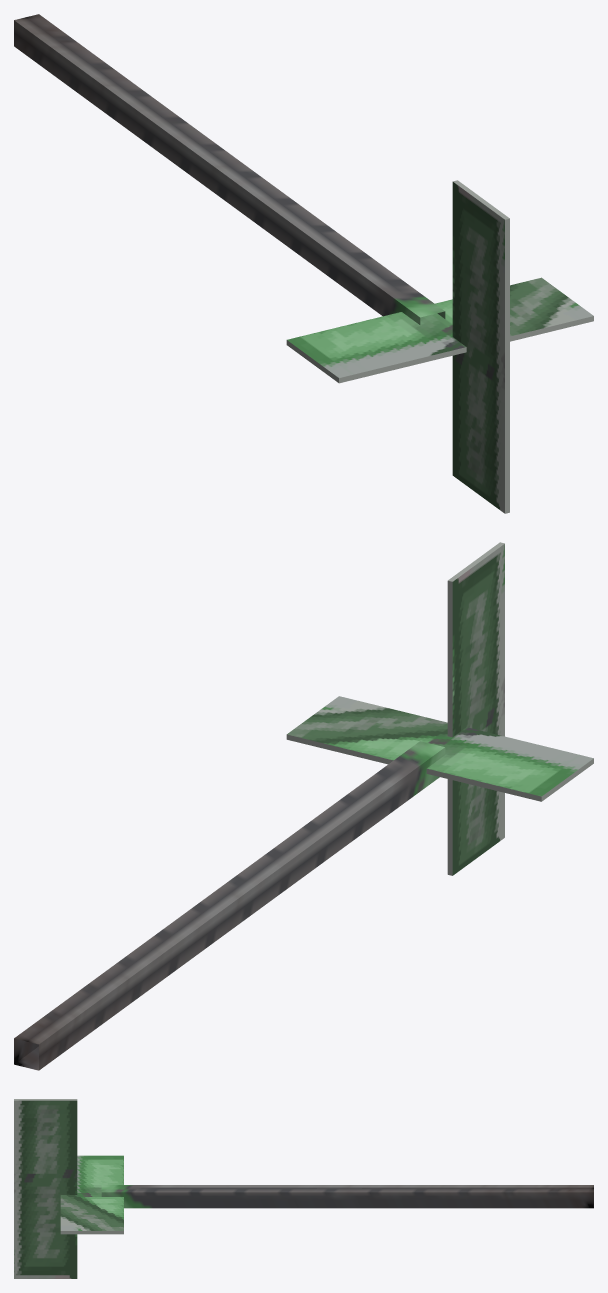
The model's file is pz_native_street_decoration_01_22.obj.
3 renders of one model, top to bottom at view 1: azimuth 30°, elevation 25°; view 2: azimuth 150°, elevation 25°; view 3: azimuth 270°, elevation 25°, orthographic. The views are drawn at different scales.
Parts seen in each view (by area): view 1: pz_native_street_decoration_01_22; view 2: pz_native_street_decoration_01_22; view 3: pz_native_street_decoration_01_22.
Boxes of the visible parts, x1=… form: pz_native_street_decoration_01_22: x1=14, y1=14, x2=593, y2=513; pz_native_street_decoration_01_22: x1=14, y1=542, x2=593, y2=1070; pz_native_street_decoration_01_22: x1=14, y1=1099, x2=593, y2=1278.
Bounding box in the file's own units: 0.6094 × 0.6719 × 1.98.
1 material, 1 textured.
